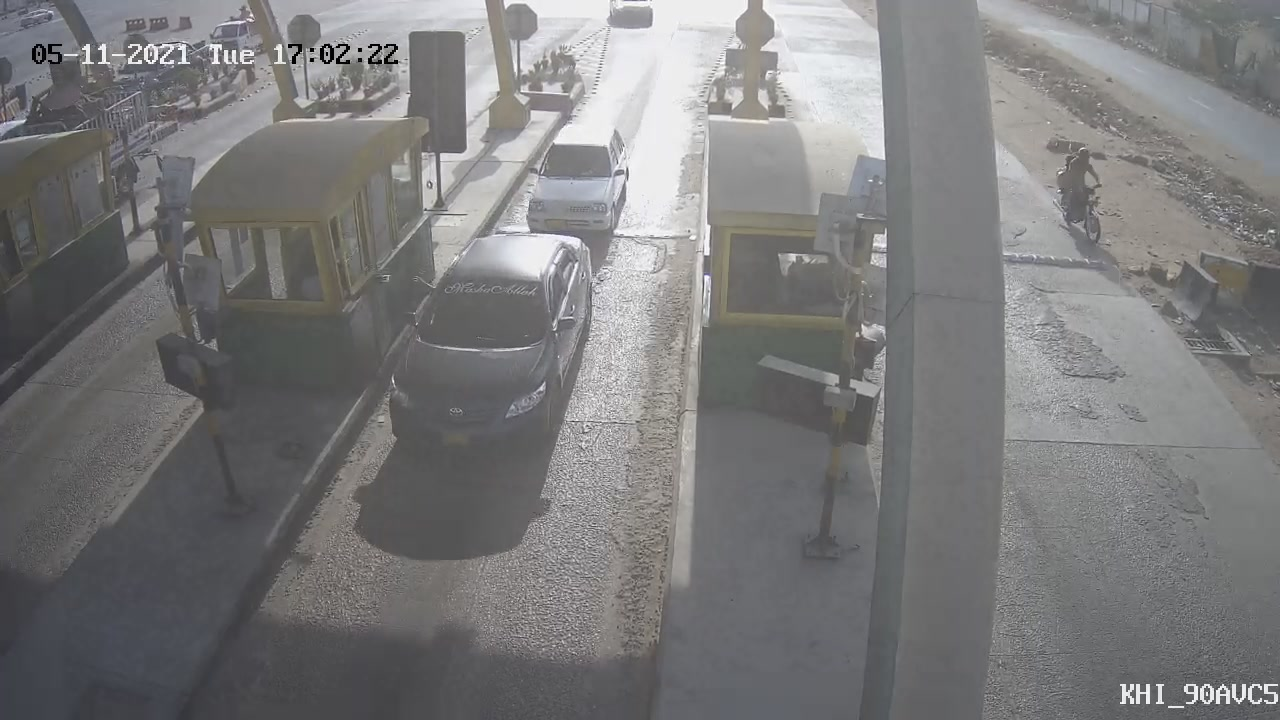F1: (363, 207, 618, 486), (500, 107, 650, 256)
